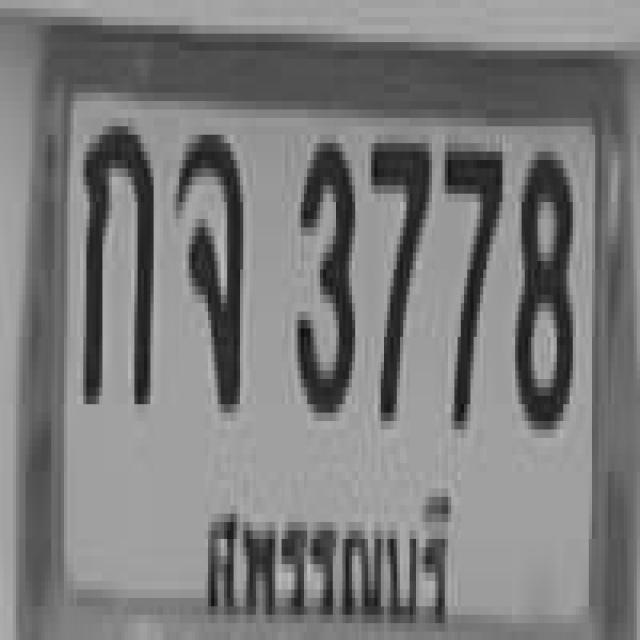10GorGai: (80, 118, 150, 396)
17ChorChan: (173, 126, 240, 404)
3: (294, 135, 352, 404)
7: (368, 134, 429, 412), (442, 143, 499, 421)
8: (512, 143, 570, 421)
SuphanBuri: (198, 467, 456, 640)
